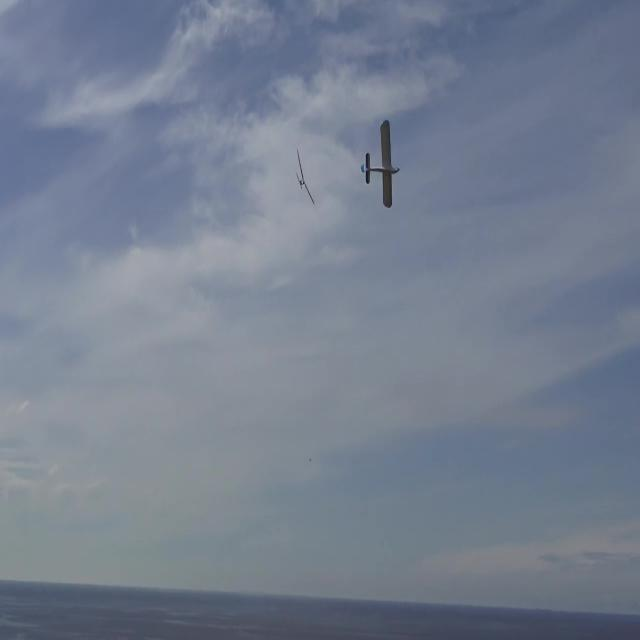iha: (296, 147, 315, 205), (360, 151, 400, 176)
